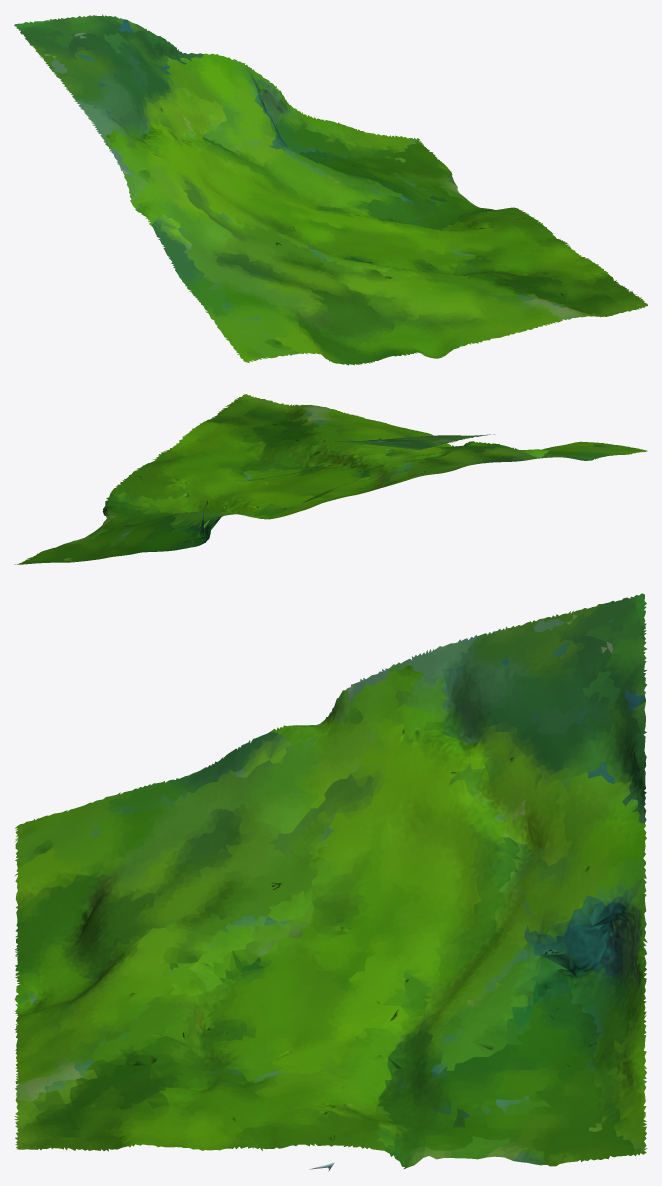
The model's file is chunk_2_2_LOD0.glb.
The picture shows the model from 3 angles, top to bottom: view 1: azimuth 30°, elevation 25°; view 2: azimuth 150°, elevation 25°; view 3: azimuth 270°, elevation 25°; orthographic projection. The views are drawn at different scales.
Parts seen in each view (by area): view 1: chunk_2_2_LOD0; view 2: chunk_2_2_LOD0; view 3: chunk_2_2_LOD0.
Part boxes in pixels (x1,y1,x2,y2): chunk_2_2_LOD0: (14,14,647,365); chunk_2_2_LOD0: (14,394,647,564); chunk_2_2_LOD0: (14,593,647,1171).
Size of the model in its own units: 99.93 by 52.34 by 98.12.
1 material, 1 textured.
